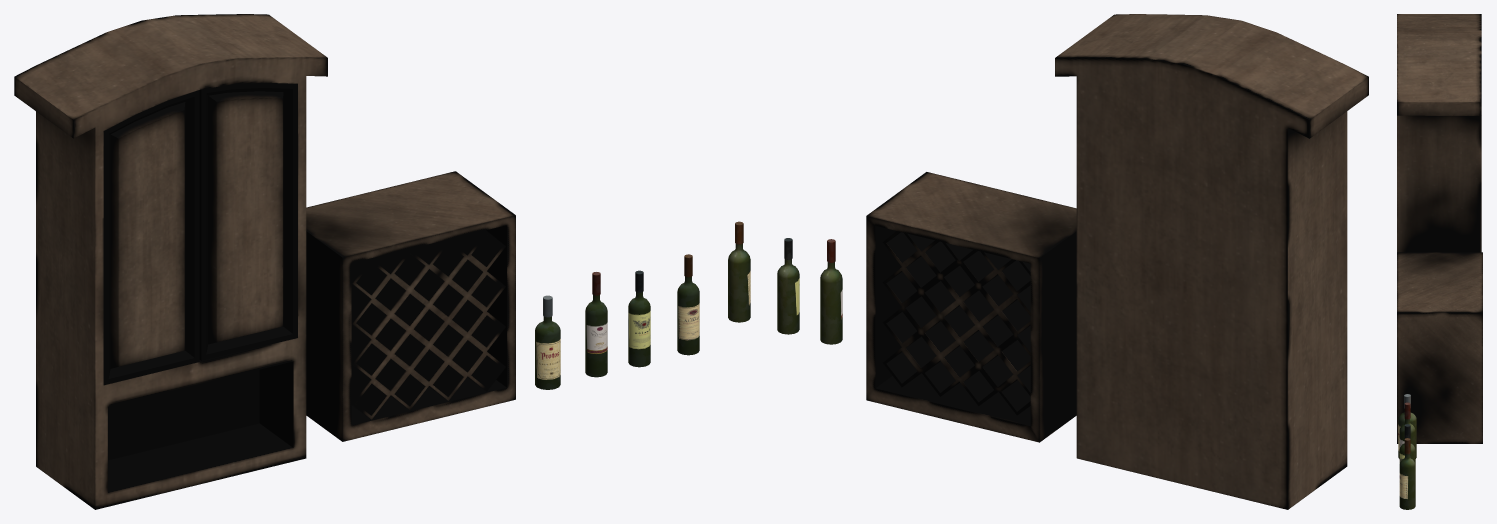
File: Vines.fbx
3 views of the same model, side by side, from view 1: azimuth 30°, elevation 25°; view 2: azimuth 150°, elevation 25°; view 3: azimuth 270°, elevation 25° (orthographic). The views are drawn at different scales.
Parts seen in each view (by area): view 1: Cube.033, Plane.006, Cube.035, Cube.034, Circle.002, Circle.001, Circle.003, Circle; view 2: Cube.033, Plane.006, Circle.001, Circle.003, Circle; view 3: Cube.033, Plane.006, Circle.003, Circle.001, Circle.002, Circle.
Boxes of the visible parts, box(x1,y1,x2,y2) form: Cube.033: box(14, 14, 327, 509); Plane.006: box(306, 171, 515, 441); Cube.035: box(199, 82, 297, 360); Cube.034: box(103, 90, 199, 385); Circle.002: box(535, 295, 560, 389); Circle.001: box(585, 272, 607, 377); Circle.003: box(677, 254, 699, 355); Circle: box(628, 270, 650, 367); Cube.033: box(1055, 14, 1368, 509); Plane.006: box(866, 172, 1076, 442); Circle.001: box(820, 239, 842, 344); Circle.003: box(728, 221, 750, 322); Circle: box(777, 238, 799, 334); Cube.033: box(1397, 14, 1481, 252); Plane.006: box(1397, 252, 1482, 443); Circle.003: box(1399, 438, 1415, 509); Circle.001: box(1399, 402, 1415, 449); Circle.002: box(1398, 394, 1416, 458); Circle: box(1399, 424, 1415, 464).
Size of the model in its own units: 3.99 by 2.53 by 0.6592.
Materials: 1 (1 with a texture image).
